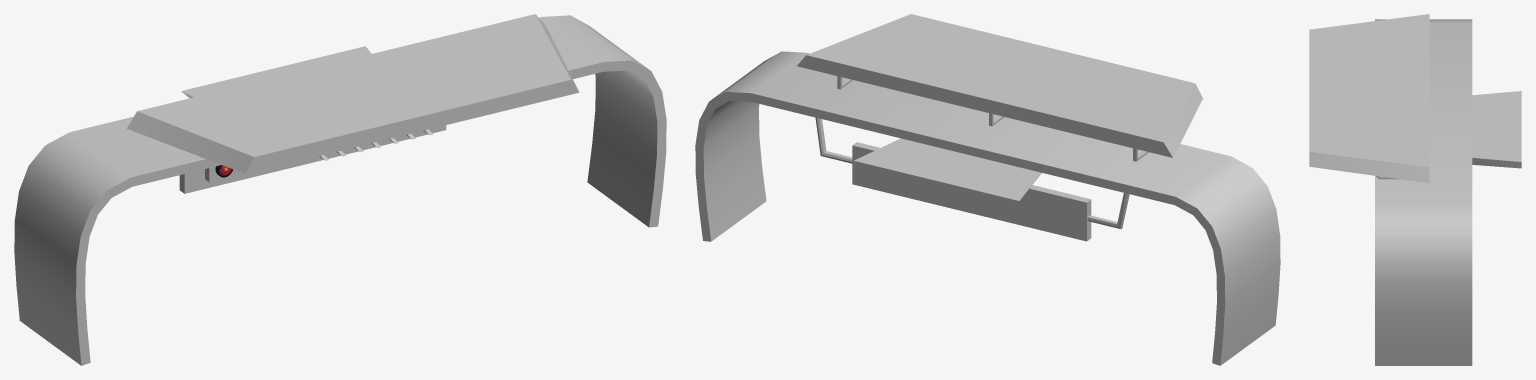
Rendered from Finish_Point.FBX.
3 renders of one model, left to right at view 1: azimuth 30°, elevation 25°; view 2: azimuth 150°, elevation 25°; view 3: azimuth 270°, elevation 25°, orthographic. The views are drawn at different scales.
Parts seen in each view (by area): view 1: Box009; view 2: Box009; view 3: Box009.
Boxes of the visible parts, x1,y1,x2,y2 form: Box009: (14, 14, 666, 365); Box009: (695, 14, 1280, 365); Box009: (1309, 14, 1521, 365).
Size of the model in its own units: 17.97 by 6.07 by 7.1.
